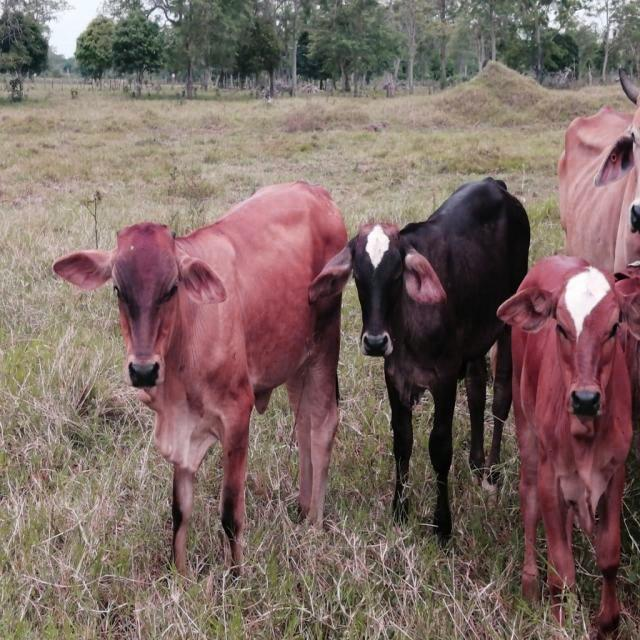cow: (54, 182, 346, 572), (310, 178, 530, 542), (498, 256, 632, 630)
